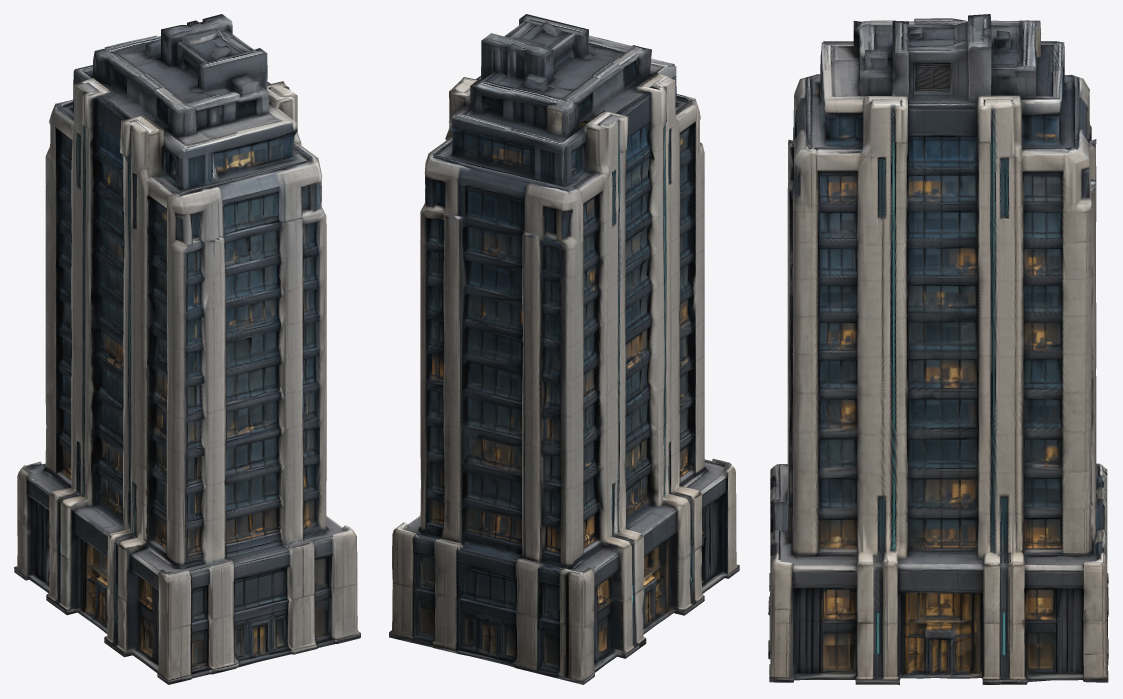
The model's file is kairox-office-midrise.glb.
3 views of the same model, side by side, from view 1: azimuth 30°, elevation 25°; view 2: azimuth 150°, elevation 25°; view 3: azimuth 270°, elevation 25° (orthographic). The views are drawn at different scales.
Visible parts, largest first — view 1: kairox-office-midrise; view 2: kairox-office-midrise; view 3: kairox-office-midrise.
Part boxes in pixels (bbox=[...]): kairox-office-midrise: bbox=[14, 14, 360, 684]; kairox-office-midrise: bbox=[389, 14, 739, 684]; kairox-office-midrise: bbox=[768, 14, 1108, 684].
Bounding box in the file's own units: 18.13 × 48 × 24.01.
Materials: 1 (1 with a texture image).
